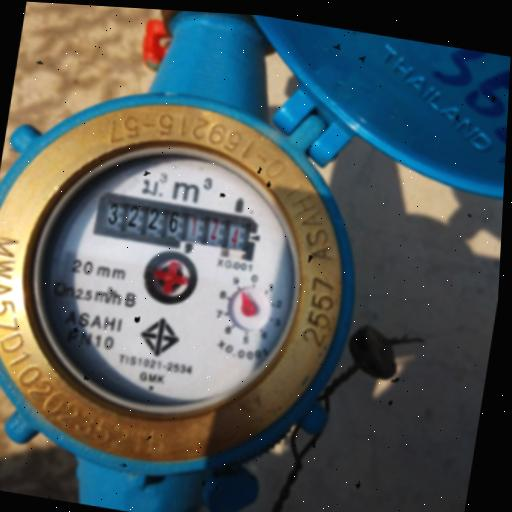1: (185, 213, 205, 242)
2: (123, 204, 143, 234), (144, 207, 164, 237), (205, 217, 224, 245)
3: (103, 200, 124, 231)
4: (225, 220, 245, 250)
6: (164, 210, 184, 239)
border_water_meter_number: (91, 190, 259, 263)
